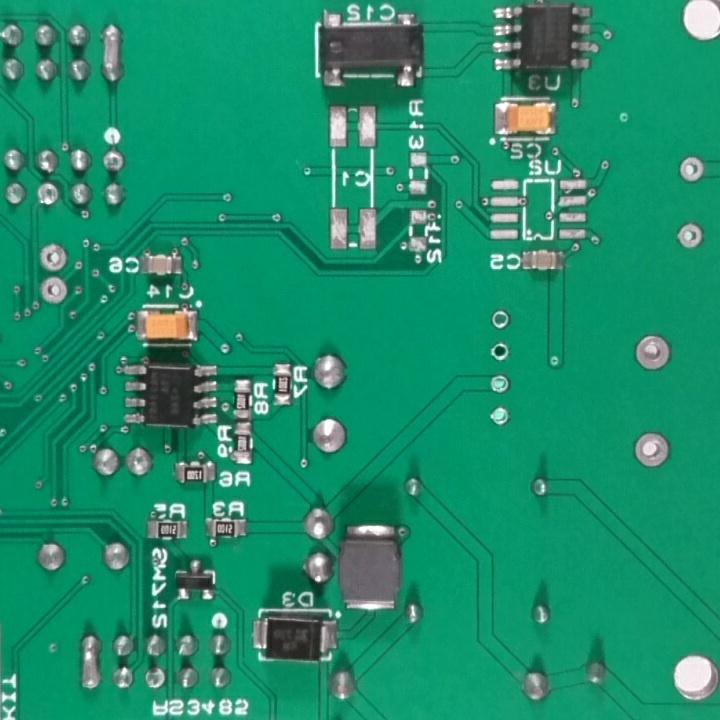F: (627, 330, 673, 377), (630, 426, 674, 472), (37, 275, 70, 307), (678, 154, 708, 189), (39, 240, 67, 276), (674, 220, 705, 252), (139, 665, 172, 693), (100, 146, 125, 178), (35, 180, 61, 210), (486, 403, 514, 429), (487, 307, 513, 335), (487, 340, 513, 366), (485, 372, 511, 397)
P: (97, 20, 129, 88), (75, 632, 105, 693)
